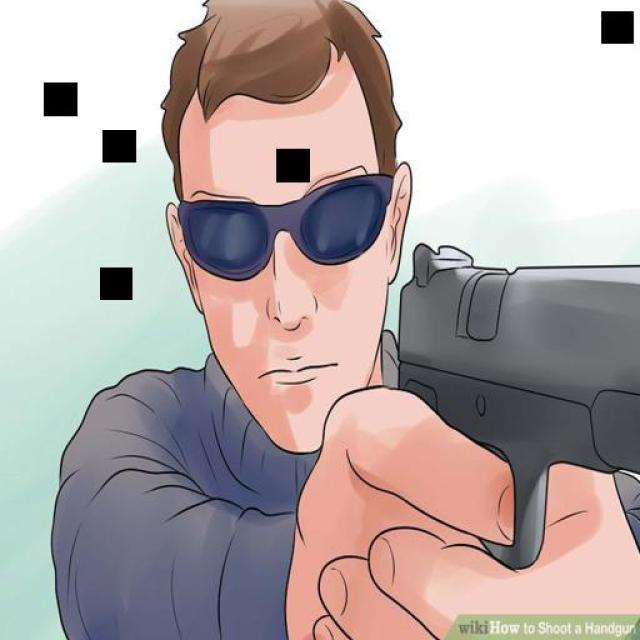gun: (365, 226, 639, 566)
